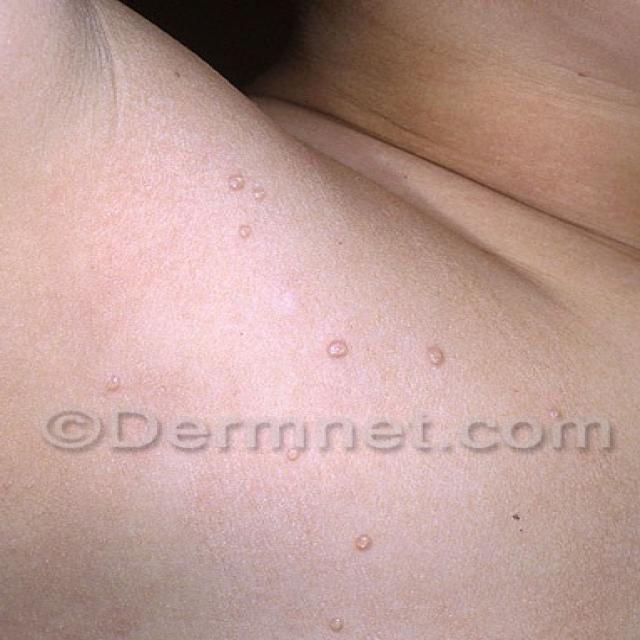Viral Infections: (295, 305, 480, 409), (322, 502, 456, 640), (200, 153, 312, 259)
